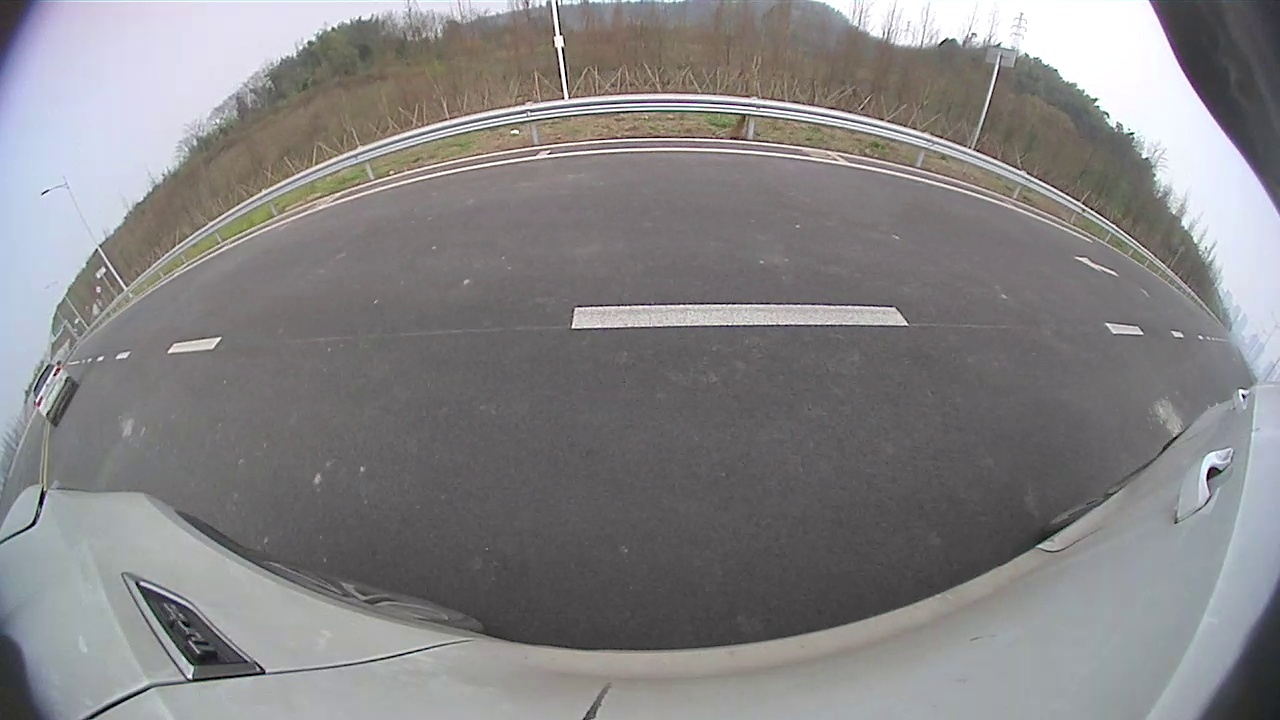car: (30, 361, 80, 428)
